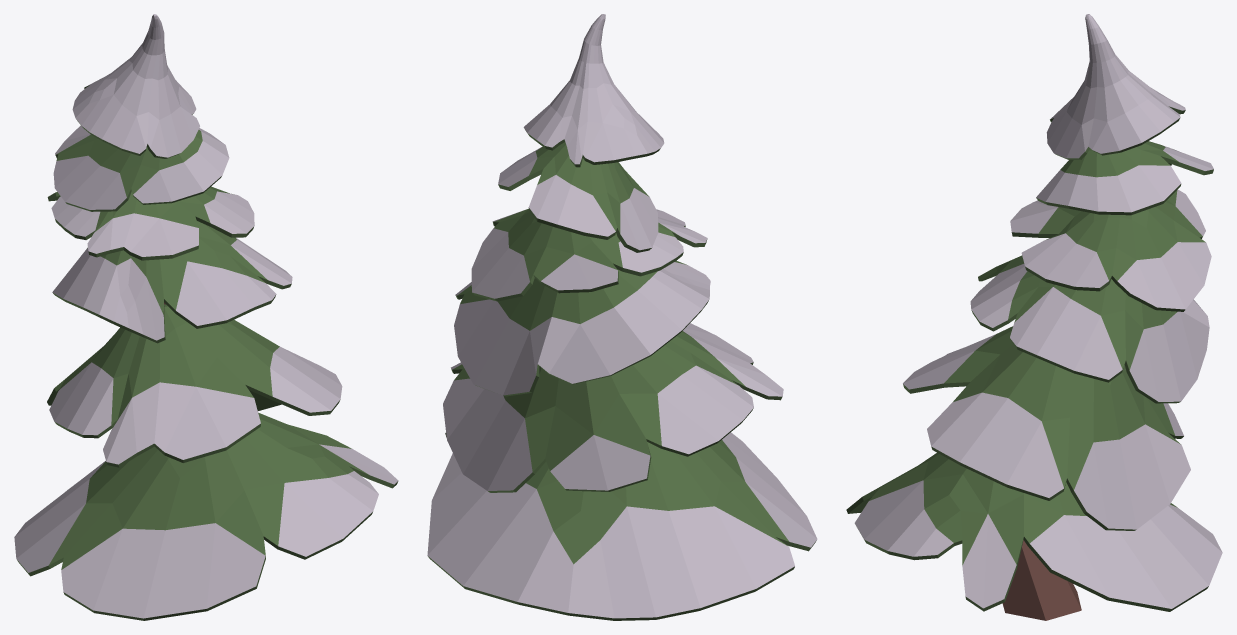
Rendered from pinetree_snow_3.glb.
3 views of the same model, side by side, from view 1: azimuth 30°, elevation 25°; view 2: azimuth 150°, elevation 25°; view 3: azimuth 270°, elevation 25° (orthographic). The views are drawn at different scales.
Parts seen in each view (by area): view 1: PineTree_Snow_3; view 2: PineTree_Snow_3; view 3: PineTree_Snow_3.
Boxes of the visible parts, x1,y1,x2,y2 form: PineTree_Snow_3: (14, 14, 398, 620); PineTree_Snow_3: (427, 14, 817, 620); PineTree_Snow_3: (846, 14, 1222, 620).
Size of the model in its own units: 5.41 by 8.26 by 4.89.
